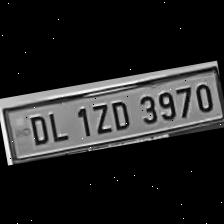0: (190, 78, 216, 112)
1: (68, 101, 94, 138)
3: (133, 88, 158, 124)
7: (171, 82, 195, 118)
9: (152, 86, 176, 120)
D: (23, 108, 52, 146), (104, 95, 132, 131)
L: (43, 104, 71, 142)
Z: (85, 98, 112, 135)
